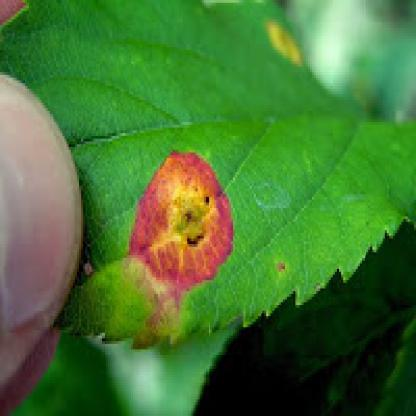apple rust leaf: (71, 3, 414, 374)
